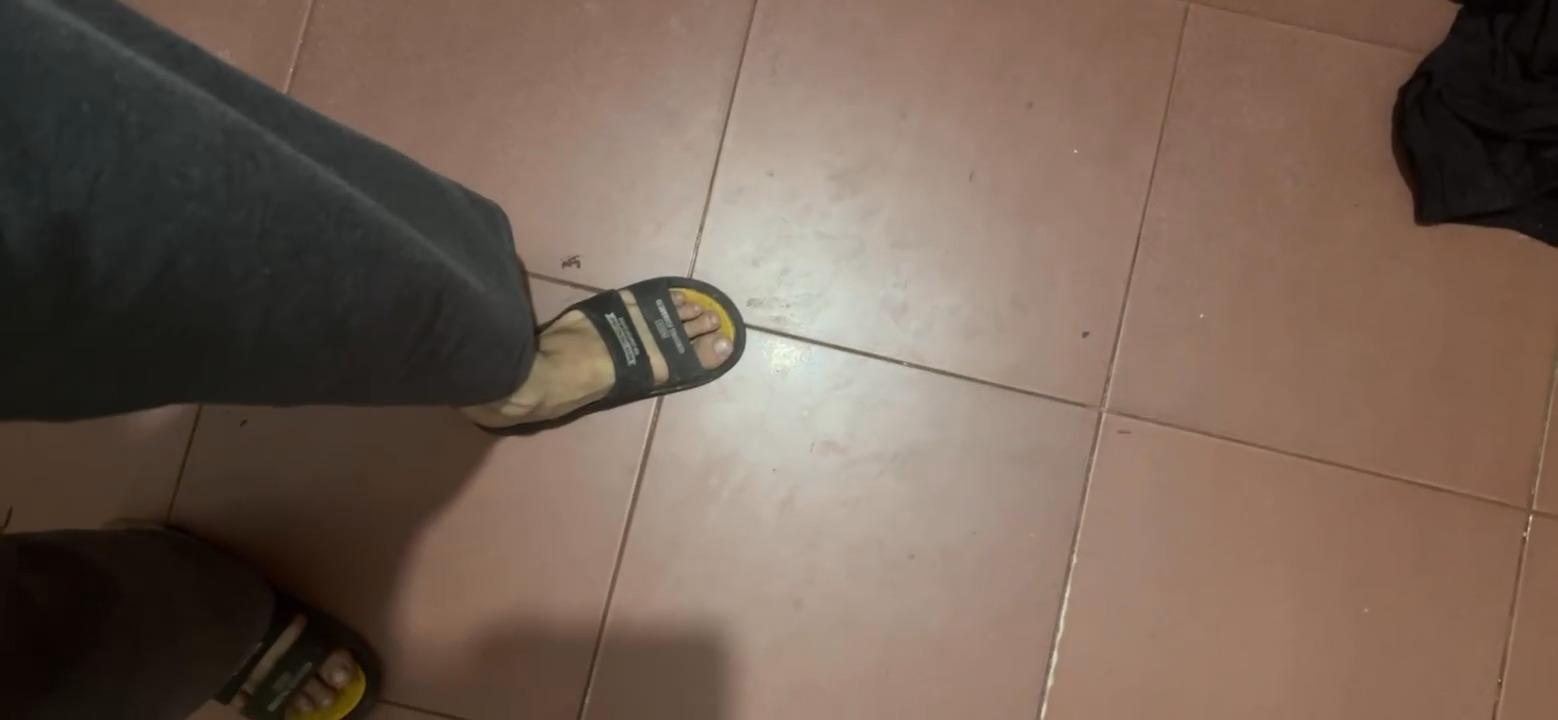no-boot: (473, 267, 772, 447)
